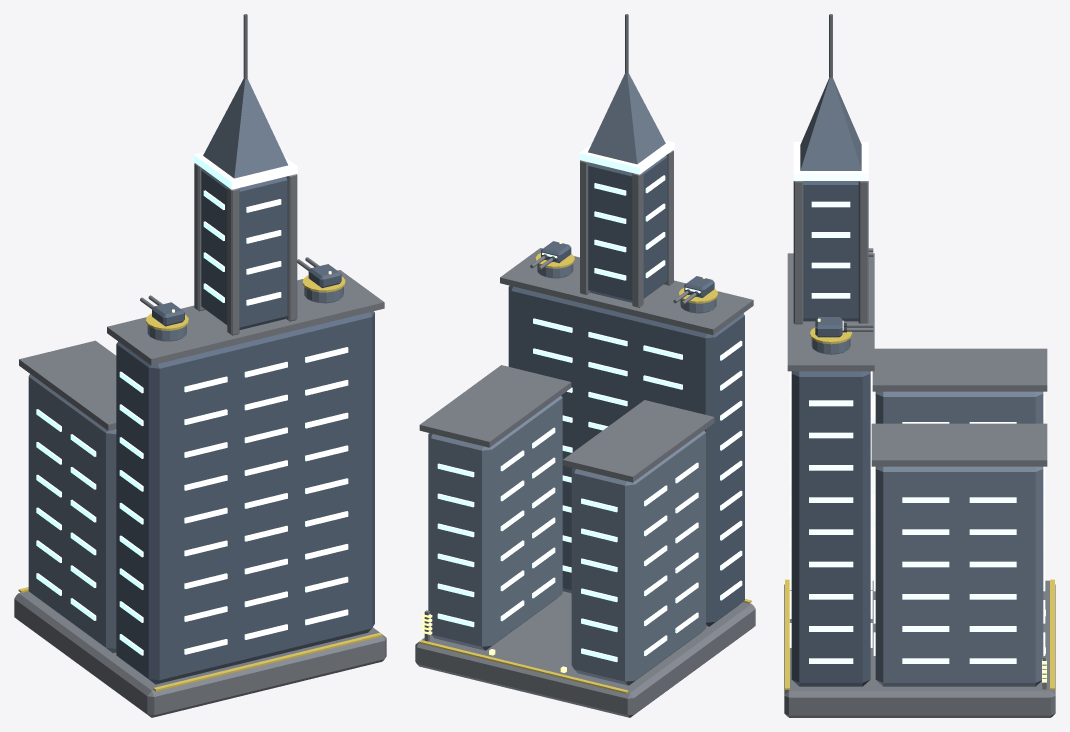
The model's file is zone_high_3_t5.glb.
3 renders of one model, left to right at view 1: azimuth 30°, elevation 25°; view 2: azimuth 150°, elevation 25°; view 3: azimuth 270°, elevation 25°, orthographic. The views are drawn at different scales.
Parts seen in each view (by area): view 1: zone_high_3_t5, detail; view 2: zone_high_3_t5, detail; view 3: zone_high_3_t5, detail.
Boxes of the visible parts, bbox=[...] form: zone_high_3_t5: bbox=[14, 79, 386, 717]; detail: bbox=[18, 14, 382, 691]; zone_high_3_t5: bbox=[415, 73, 755, 717]; detail: bbox=[419, 14, 751, 693]; zone_high_3_t5: bbox=[784, 77, 1055, 717]; detail: bbox=[785, 14, 1054, 689].
Size of the model in its own units: 27.5 by 72.38 by 27.5.
